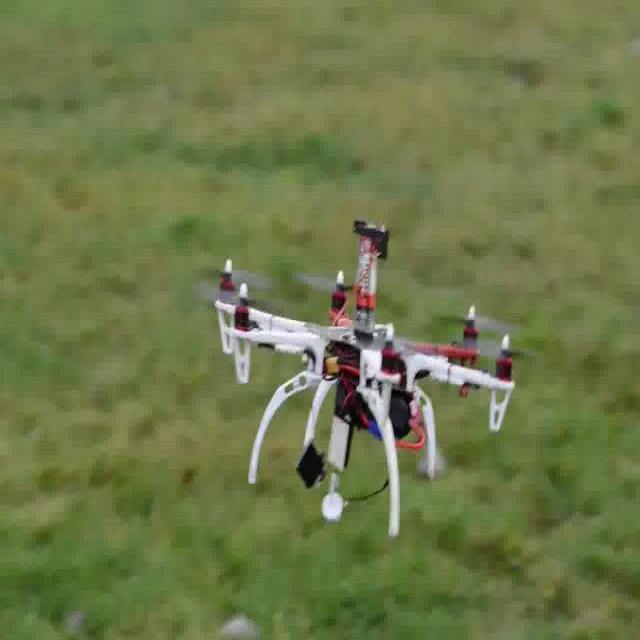drone: (195, 216, 529, 542)
